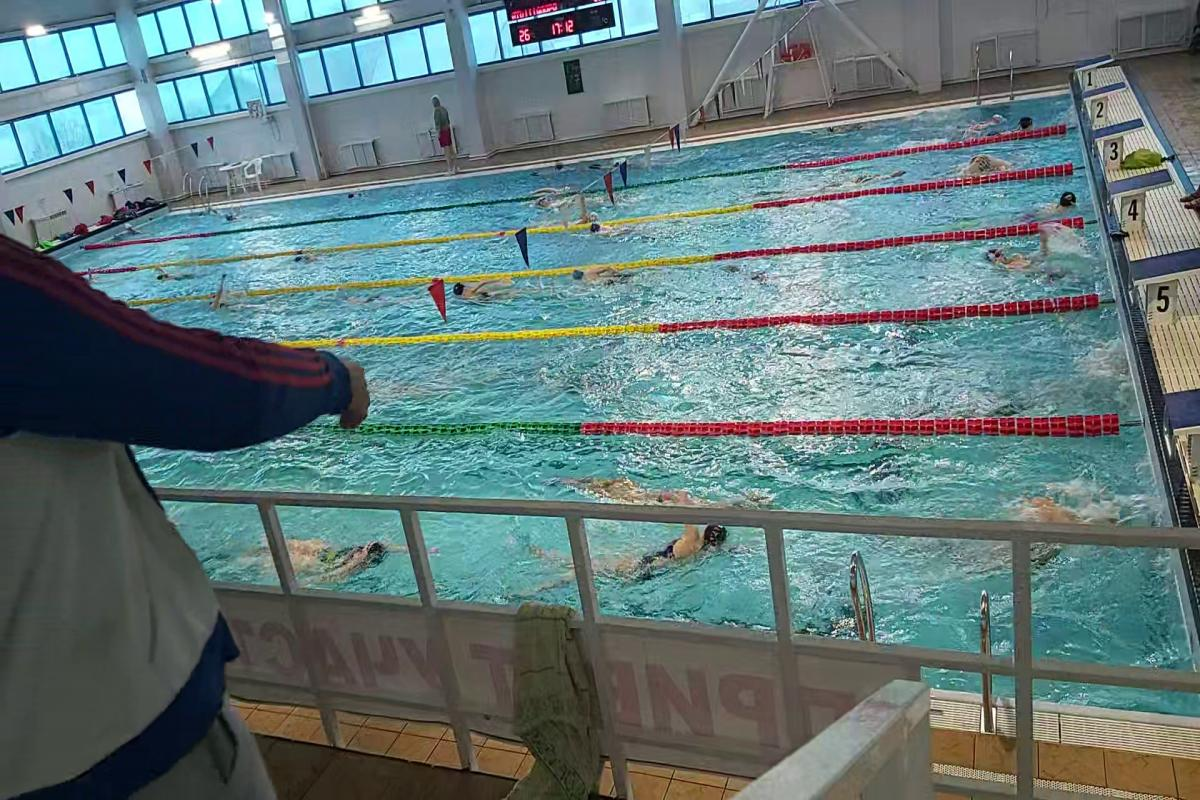swimmer: (597, 522, 754, 599), (293, 530, 403, 589), (571, 464, 708, 510), (982, 242, 1062, 288), (450, 277, 522, 307), (564, 262, 630, 292), (1026, 193, 1086, 220), (202, 277, 244, 310), (964, 150, 1018, 174), (151, 264, 203, 284), (290, 251, 341, 270), (569, 195, 605, 219), (532, 195, 568, 213), (584, 223, 624, 239)
